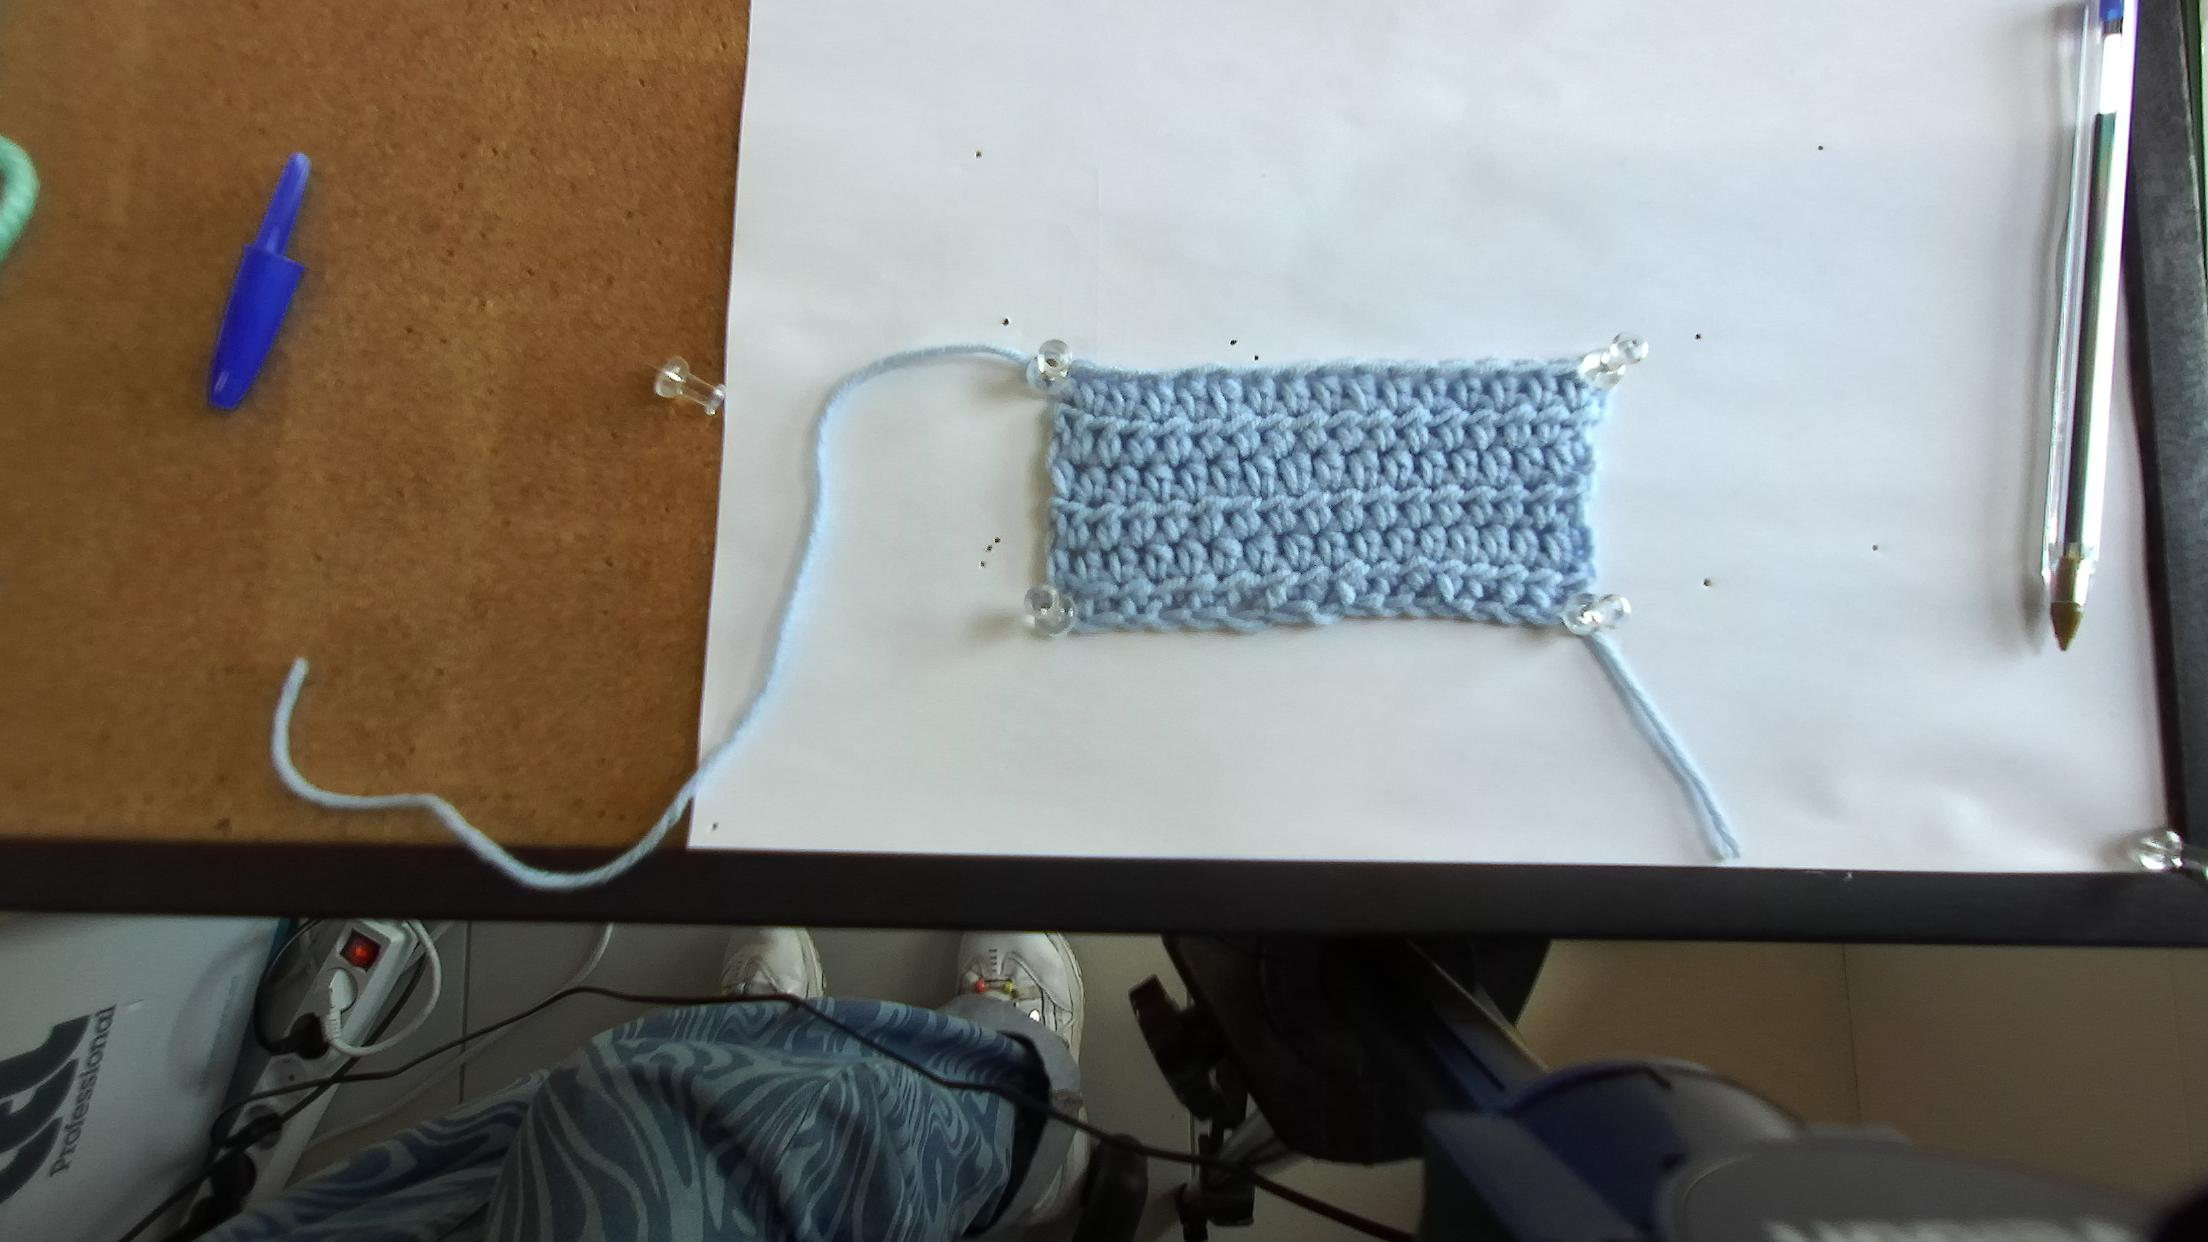hole: (1071, 371, 1095, 387), (1272, 371, 1290, 387), (1305, 369, 1324, 384), (1408, 370, 1428, 384), (1481, 371, 1506, 382), (1172, 374, 1190, 389), (1373, 368, 1391, 383), (1136, 376, 1158, 388), (1441, 372, 1463, 384), (1206, 371, 1222, 386), (1241, 371, 1255, 386), (1337, 368, 1358, 378), (1106, 374, 1123, 385), (1553, 373, 1571, 383), (1517, 370, 1536, 379)
swatch: (1043, 362, 1610, 640)
